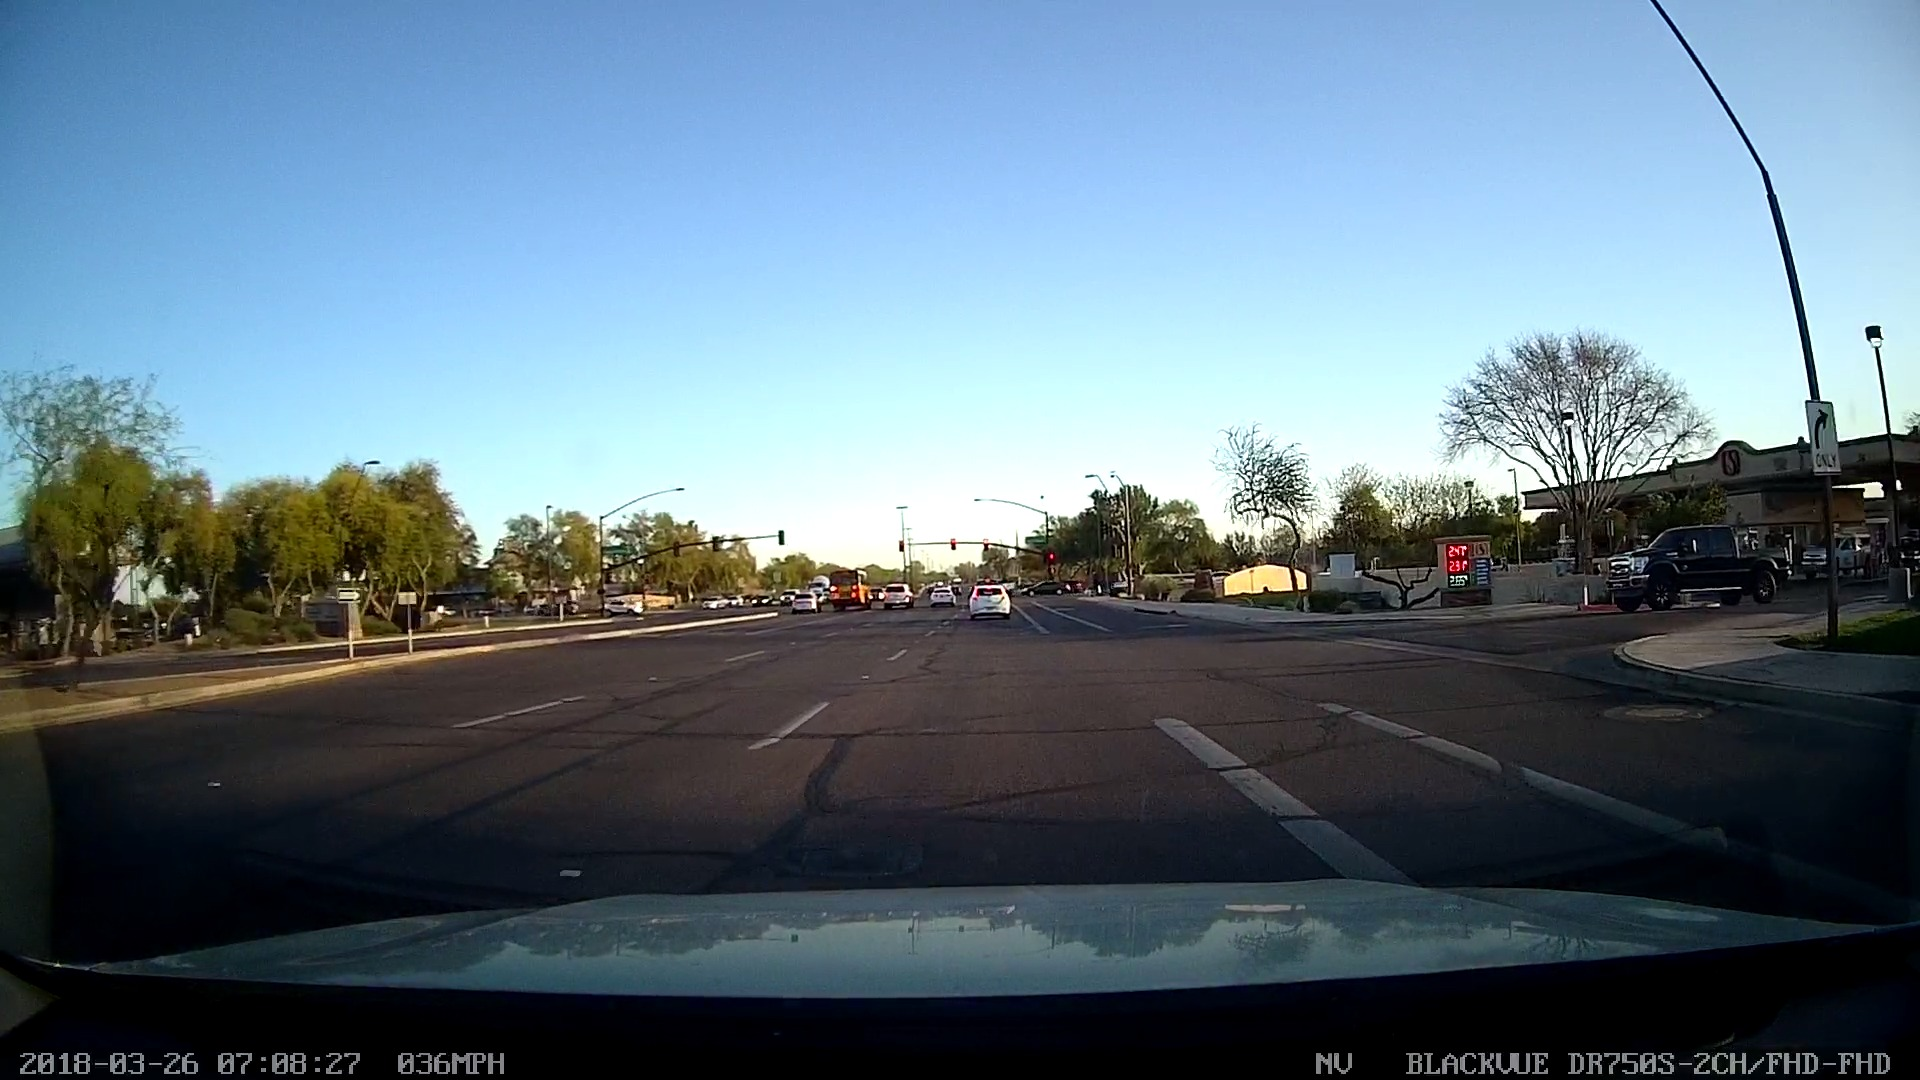vehicle: (1593, 516, 1797, 613), (960, 574, 1021, 624), (822, 559, 876, 615), (785, 580, 820, 620), (880, 575, 913, 617)
